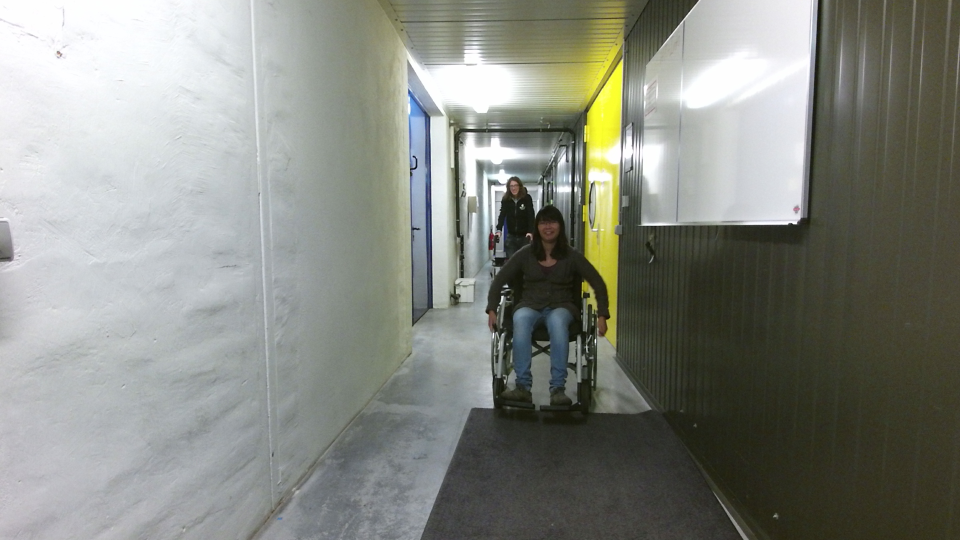wheelchair: (482, 201, 612, 421)
